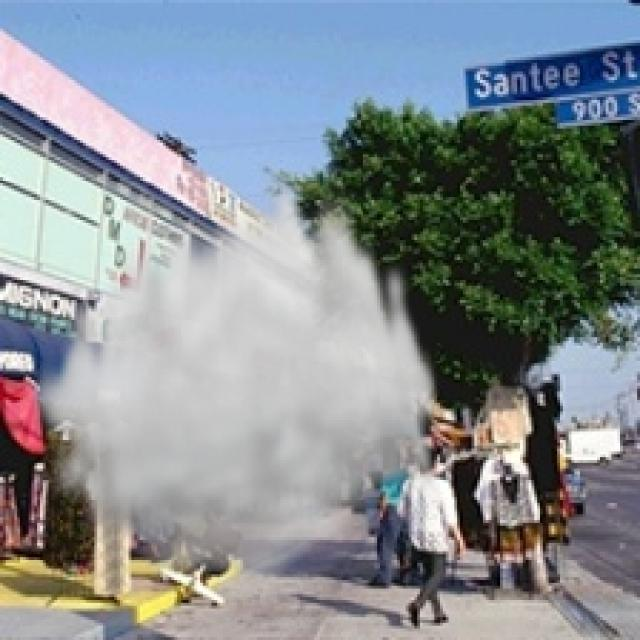smoke: (26, 166, 443, 588)
